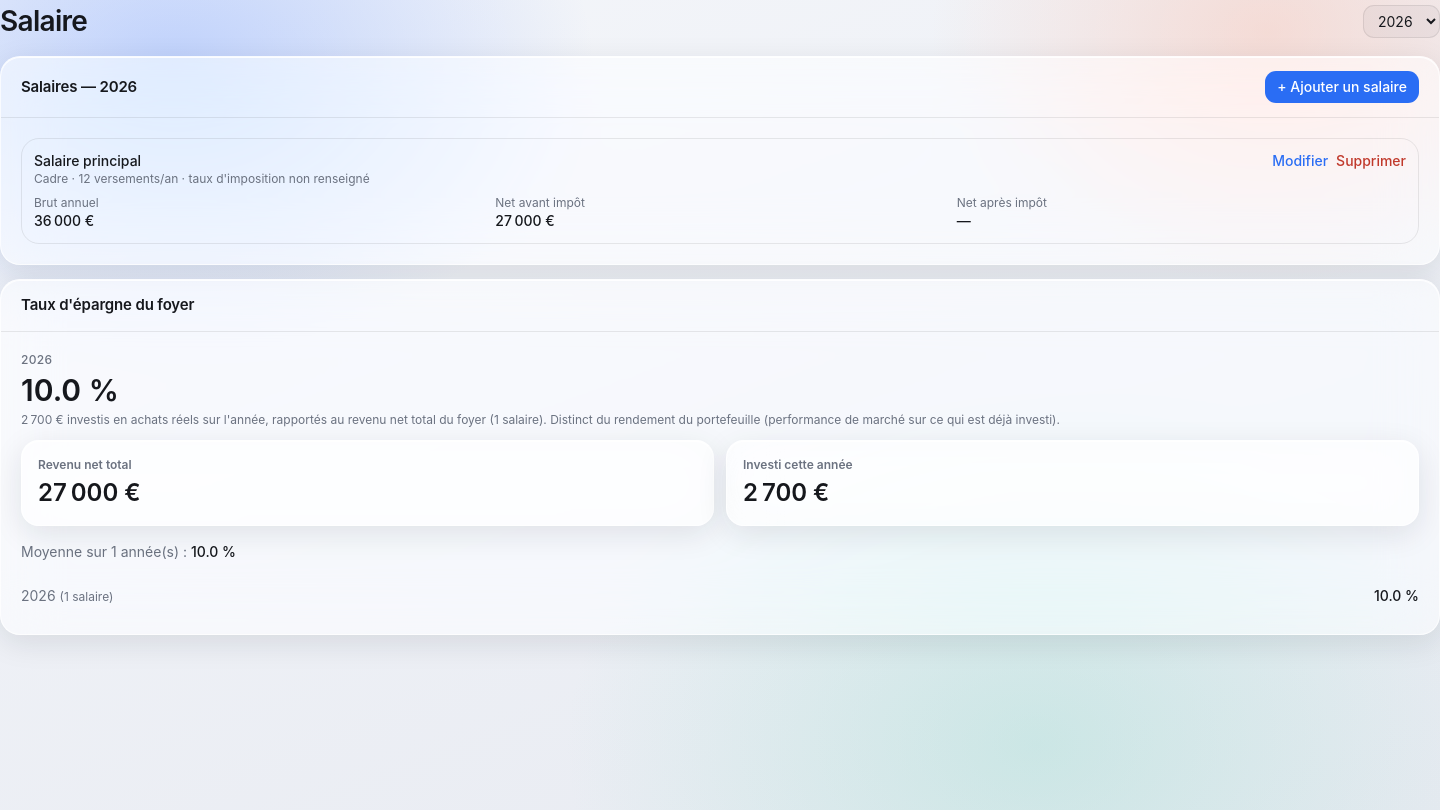
Scenario: SalairePage › supprime un salaire
Expected: the text "Salaire principal" is shown, [34, 152, 141, 169]
Step 1. Click the button "Supprimer" → (1371, 161), box [1336, 151, 1406, 171]
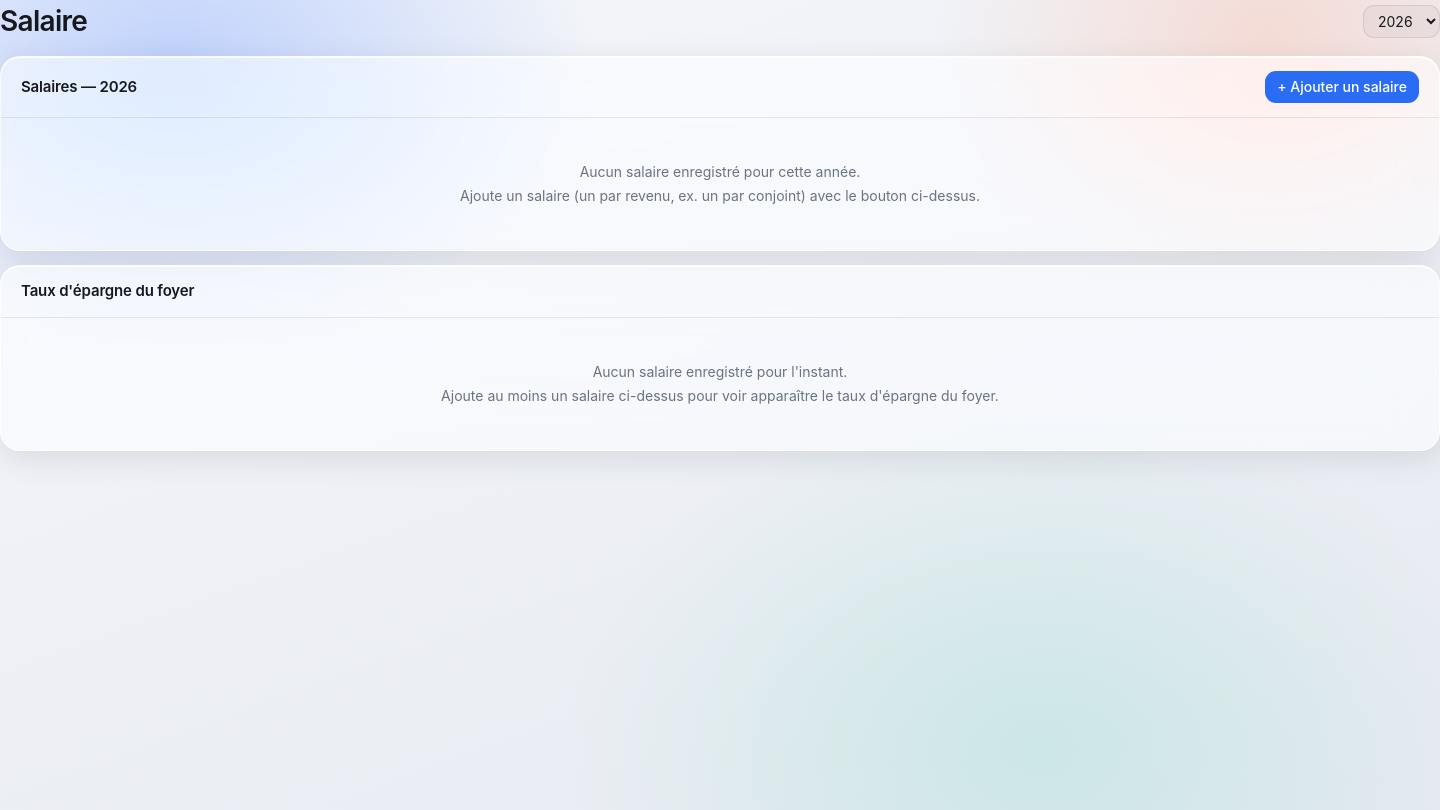
Expected: the text "Aucun salaire enregistré pour cette année." is shown, [580, 163, 860, 180]
